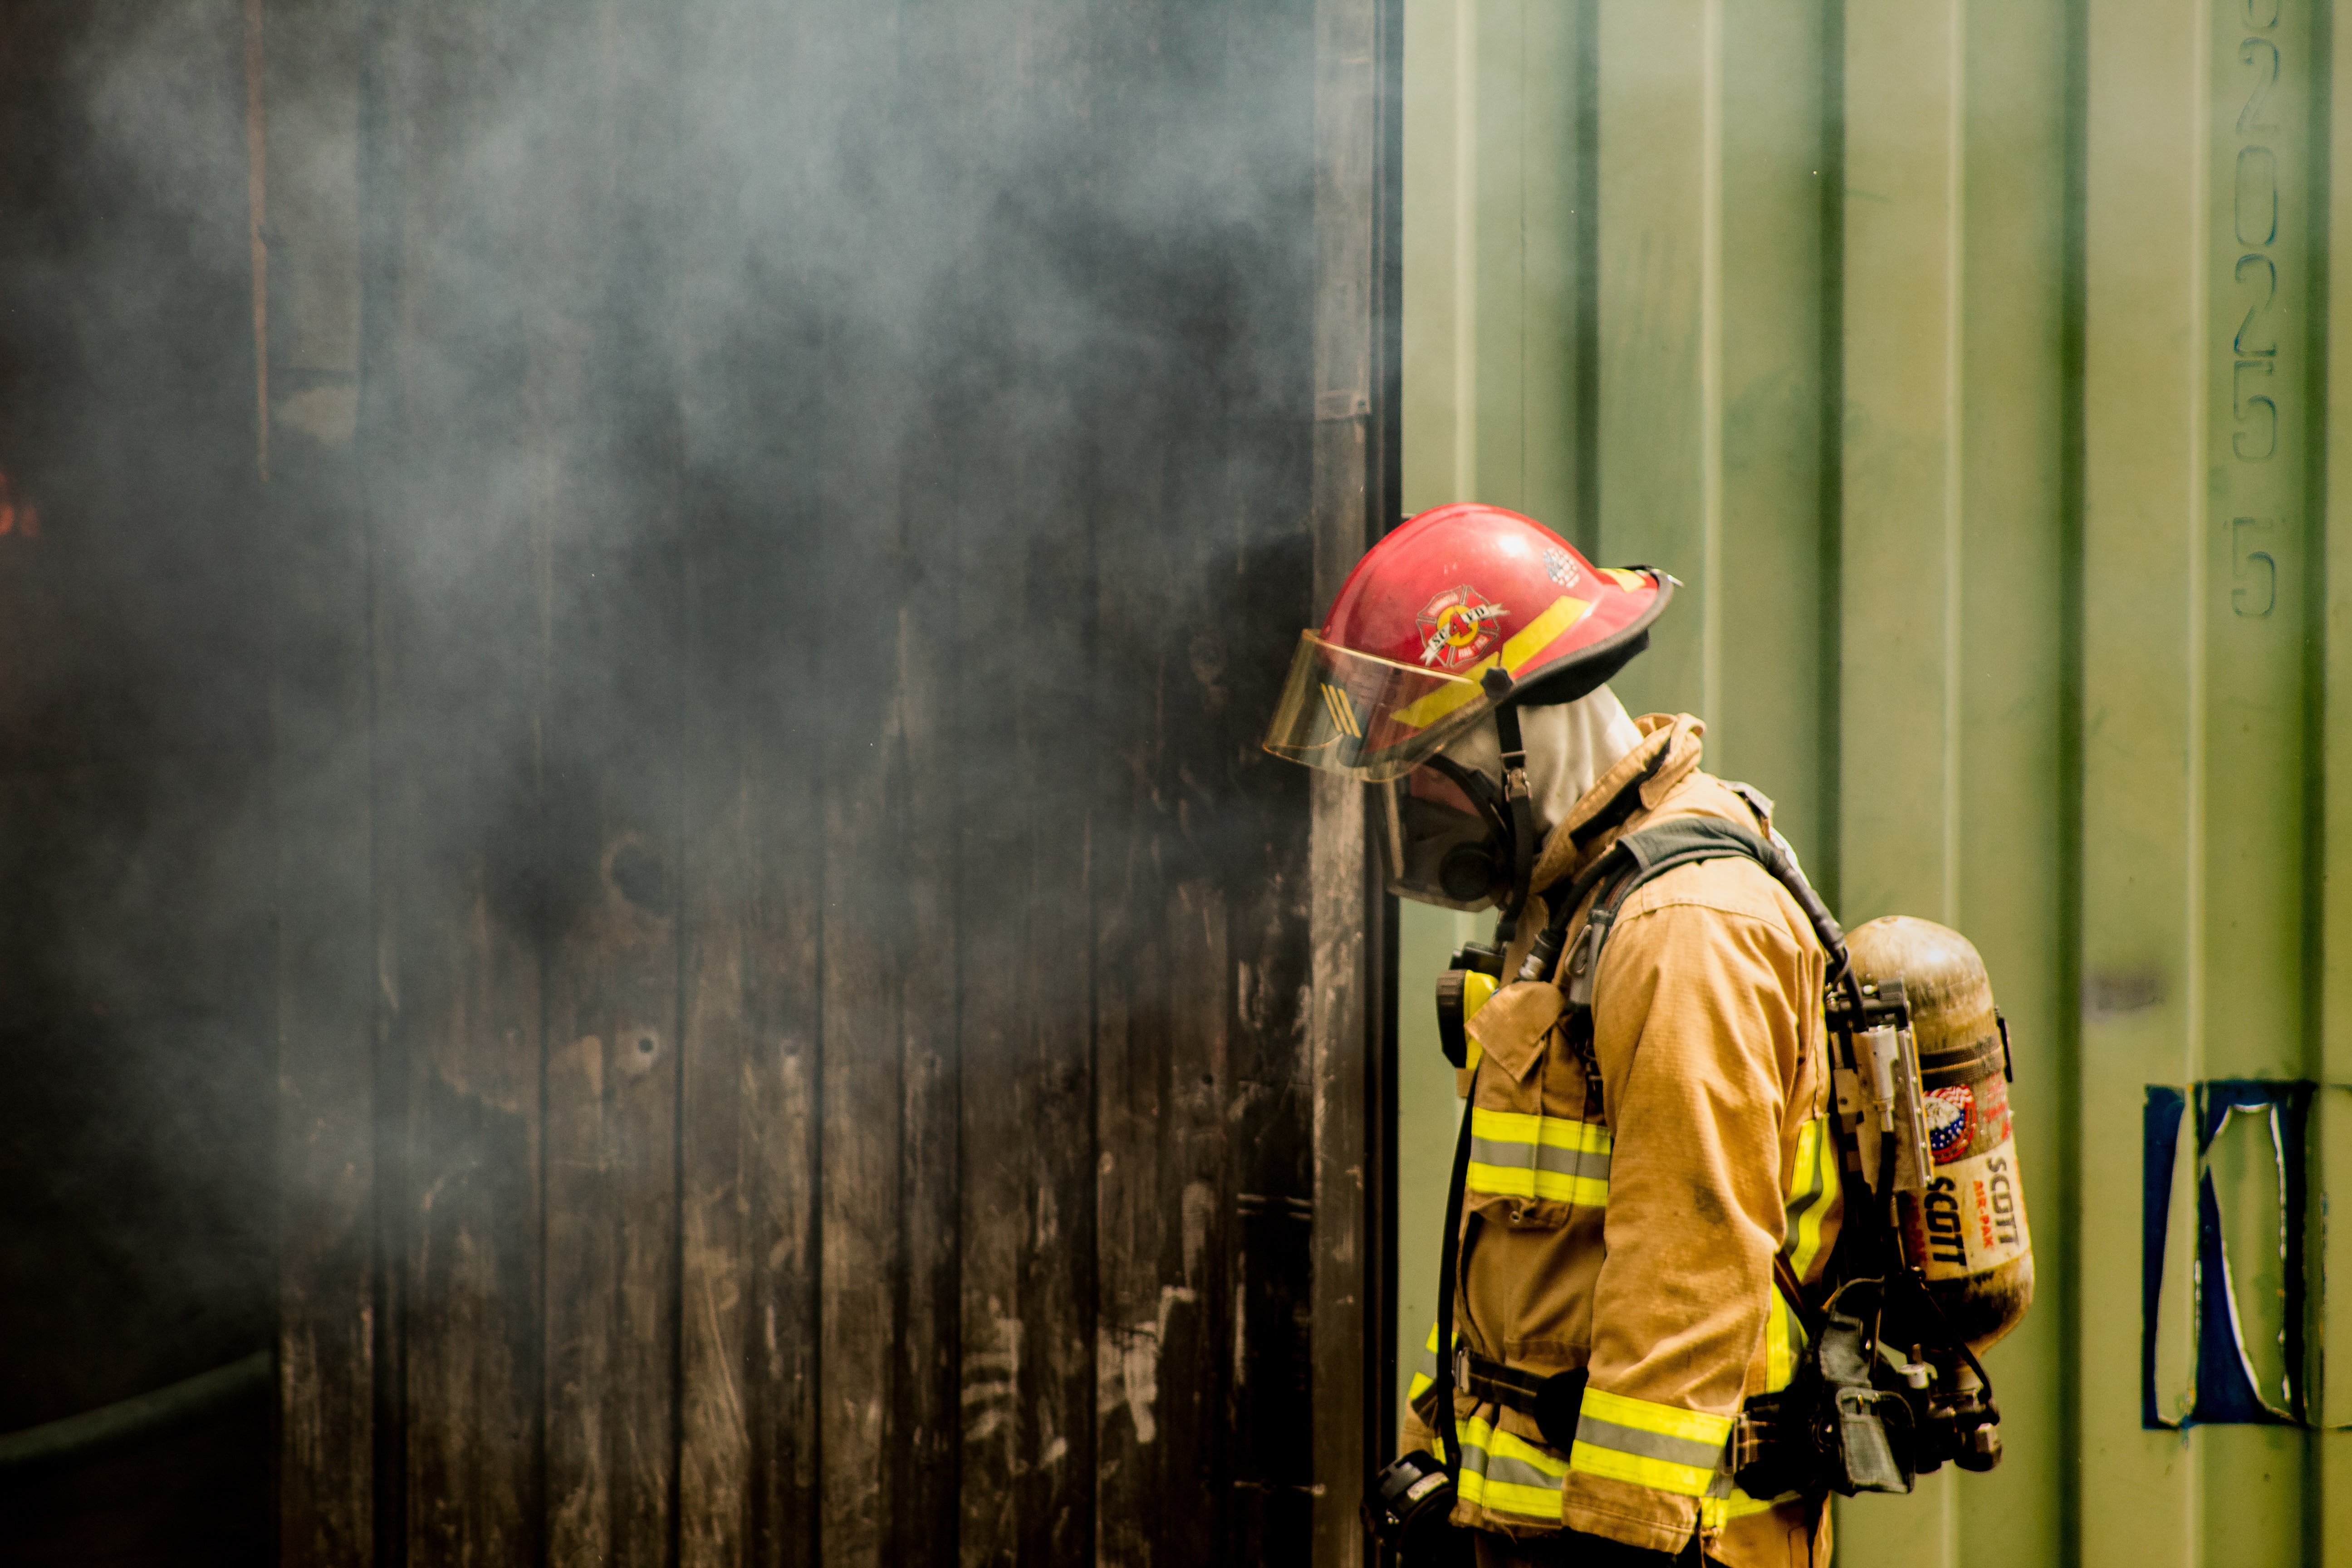emergent: (1297, 523, 1857, 1551)
